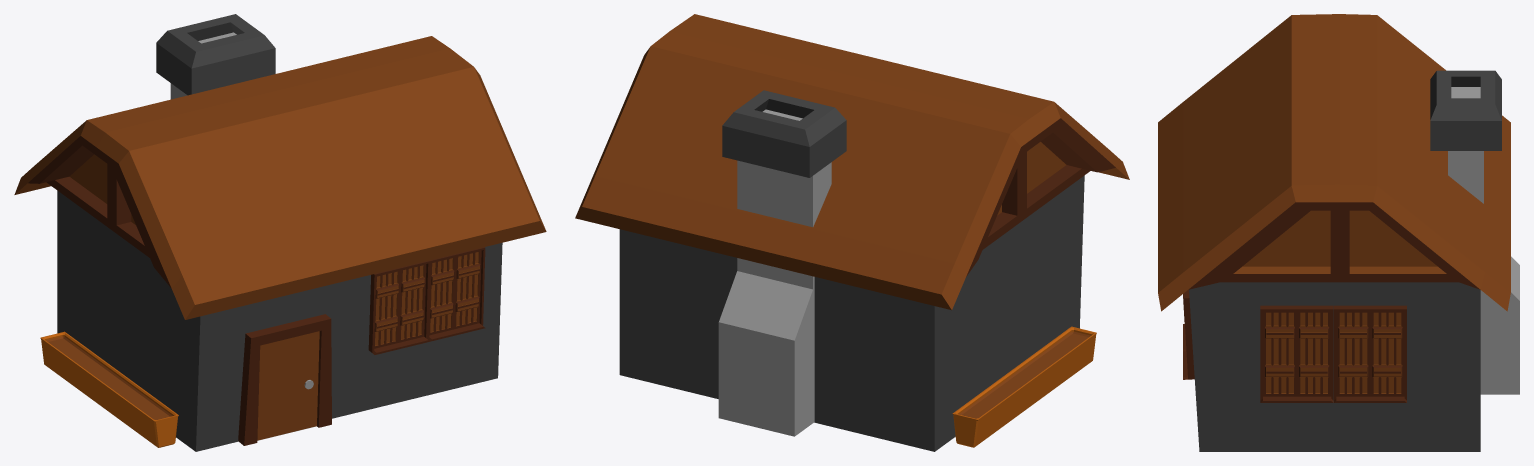
The model's file is SagradoCasaPreta.fbx.
3 renders of one model, left to right at view 1: azimuth 30°, elevation 25°; view 2: azimuth 150°, elevation 25°; view 3: azimuth 270°, elevation 25°, orthographic. The views are drawn at different scales.
Visible parts, largest first — view 1: CasaPreta; view 2: CasaPreta; view 3: CasaPreta.
Part boxes in pixels (box(x1,y1,x2,y2)): CasaPreta: box(14, 14, 546, 451); CasaPreta: box(575, 14, 1129, 451); CasaPreta: box(1158, 14, 1519, 451).
Size of the model in its own units: 1178 by 890 by 1007.
